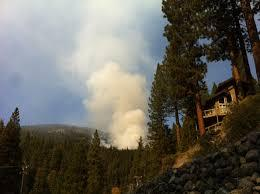smoke: (1, 0, 152, 152)
